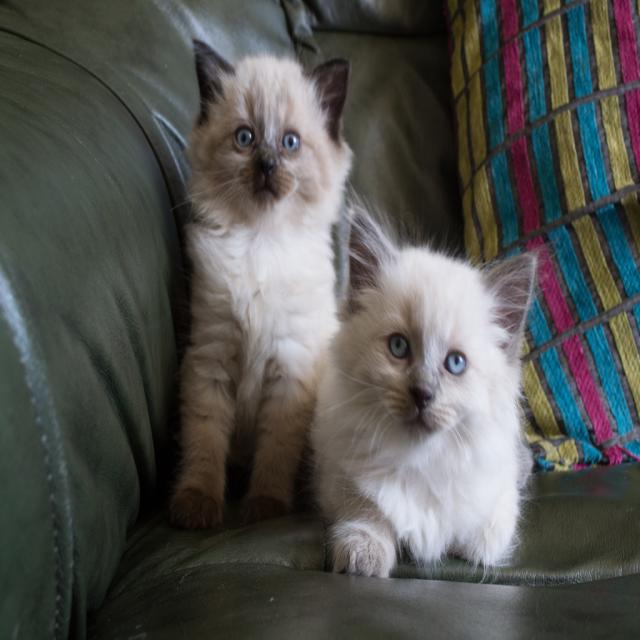Cat: (294, 174, 558, 583), (168, 38, 353, 530)
